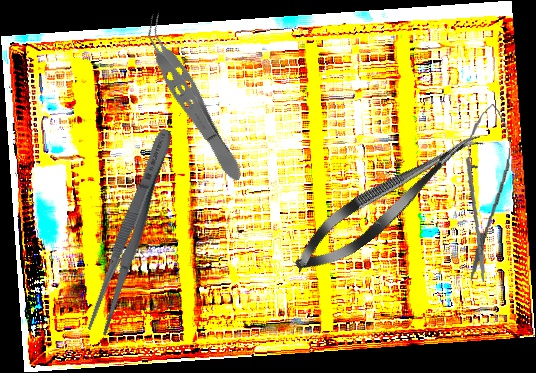Dressing Forceps: (83, 125, 180, 337)
Micro Scissor: (284, 117, 492, 285), (453, 101, 517, 284)
Tissue Forceps: (132, 10, 252, 188)
